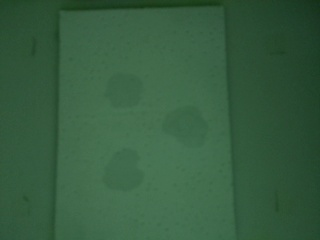Water_detected: (102, 153, 142, 192), (103, 71, 141, 108), (166, 106, 205, 139)
